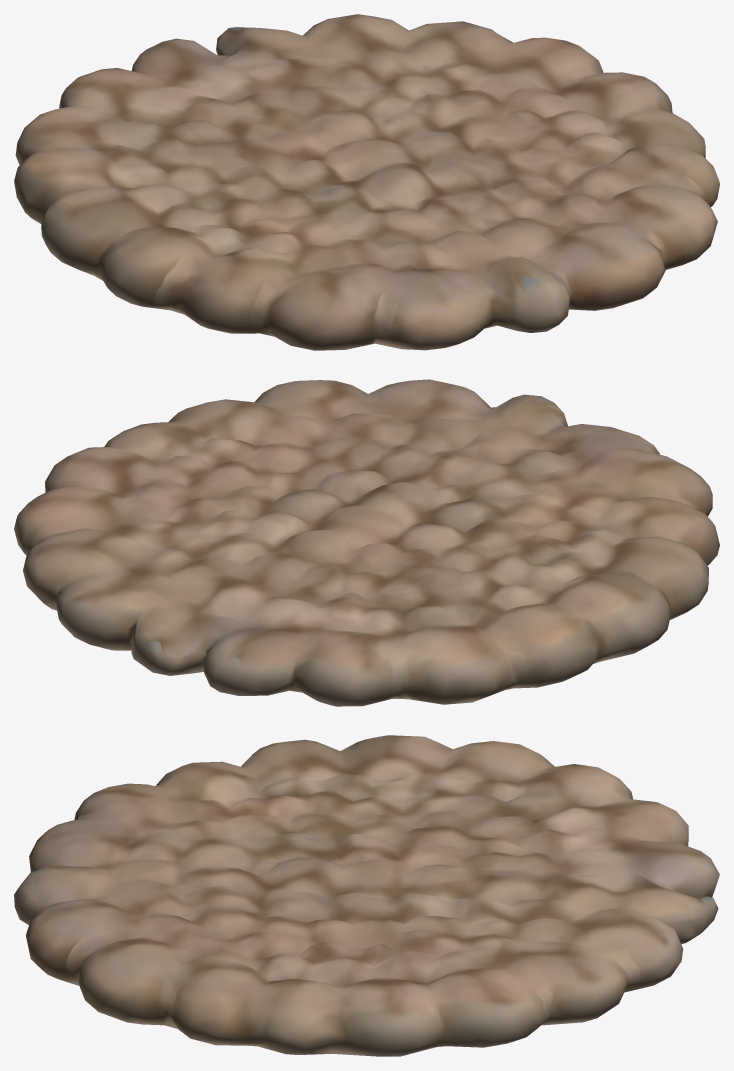
Rendered from stone_footing.glb.
3 views of the same model, one above another, from view 1: azimuth 30°, elevation 25°; view 2: azimuth 150°, elevation 25°; view 3: azimuth 270°, elevation 25° (orthographic). The views are drawn at different scales.
Parts seen in each view (by area): view 1: tripo_node_f9ac9f90-416e-4495-8587-404a01c61120; view 2: tripo_node_f9ac9f90-416e-4495-8587-404a01c61120; view 3: tripo_node_f9ac9f90-416e-4495-8587-404a01c61120.
Boxes of the visible parts, left/top/right/bottom form: tripo_node_f9ac9f90-416e-4495-8587-404a01c61120: left=14, top=14, right=719, bottom=350; tripo_node_f9ac9f90-416e-4495-8587-404a01c61120: left=14, top=379, right=719, bottom=706; tripo_node_f9ac9f90-416e-4495-8587-404a01c61120: left=14, top=735, right=719, bottom=1056.
Size of the model in its own units: 0.9807 by 0.0892 by 1.
1 material, 1 textured.
